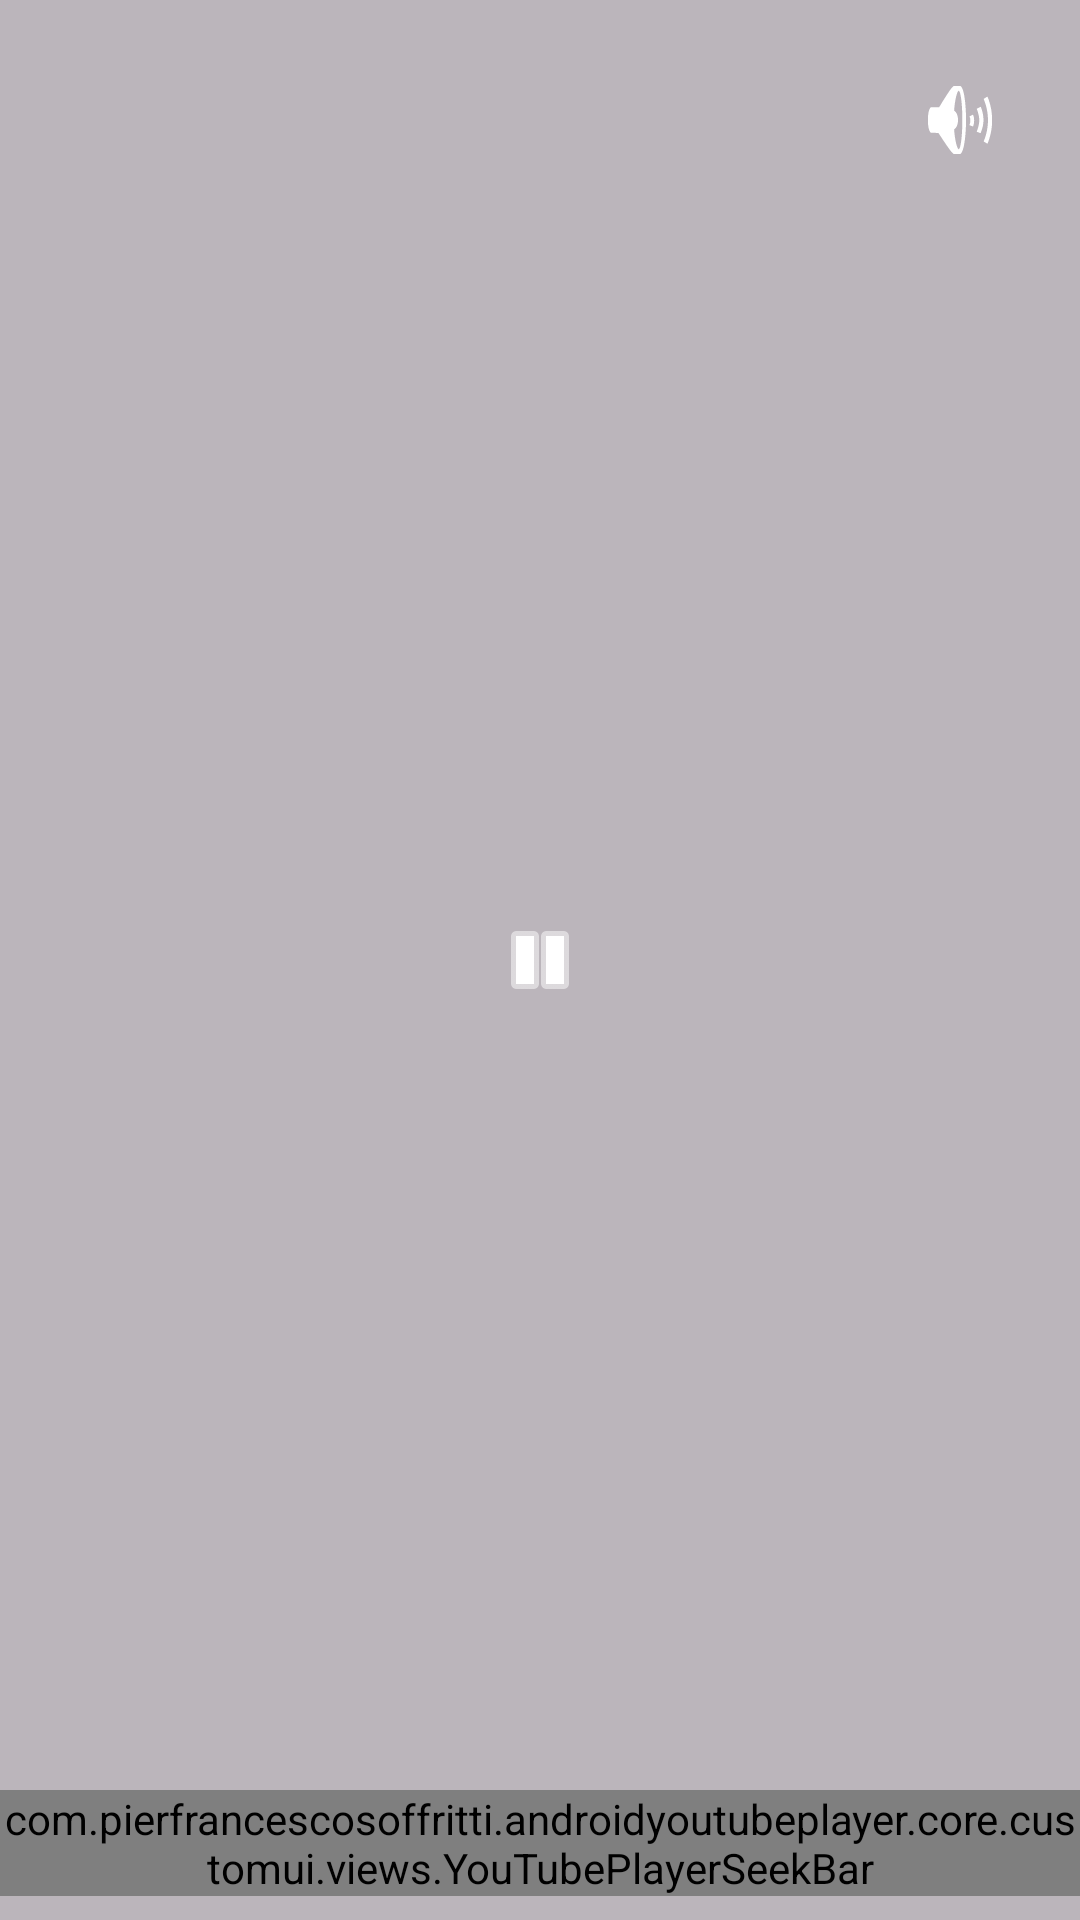

Icon bounding boxes for this 1080 x 1920 phone screenshot, format (x1, y1, x2, y2):
pause: (511, 931, 569, 989)
